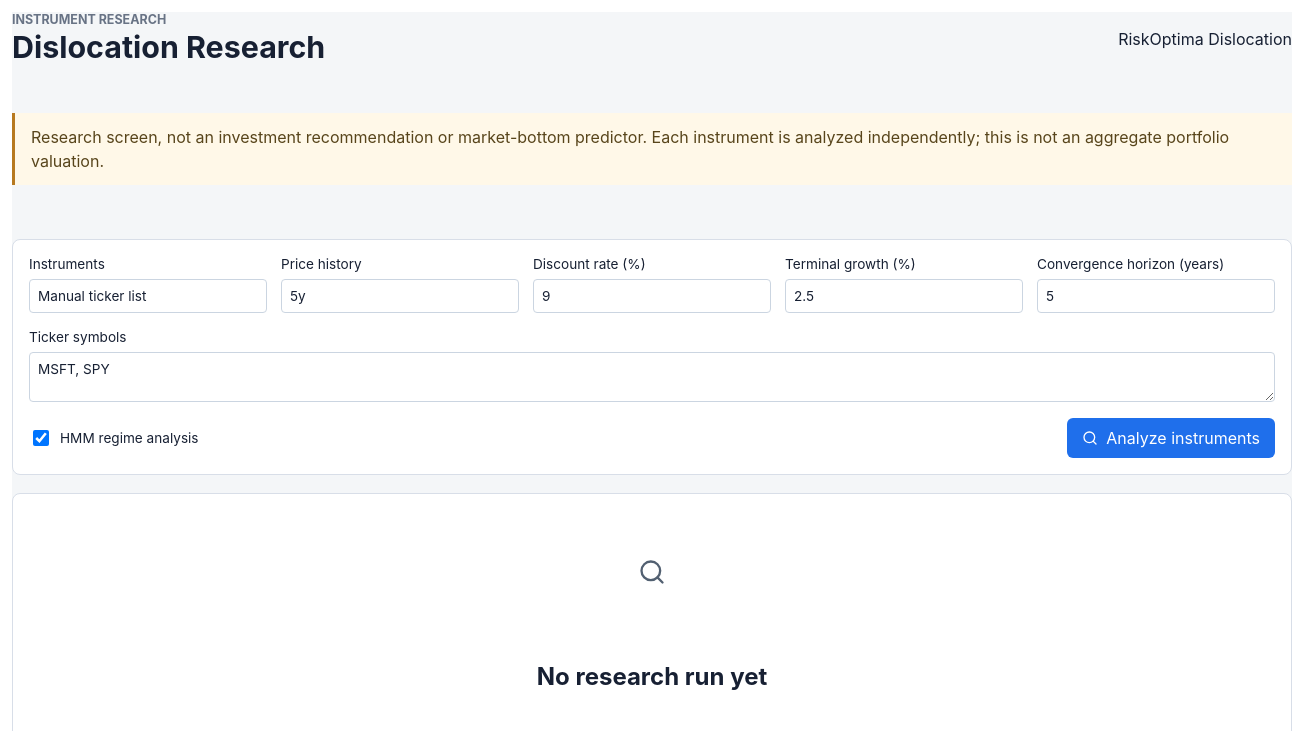
Dislocation Research › sends only selected portfolio holdings with portfolio id
The image size is (1304, 731).
Select "Selected portfolio holdings" in the dropdown labelled "Instruments" at (148, 296), box [29, 279, 267, 313]
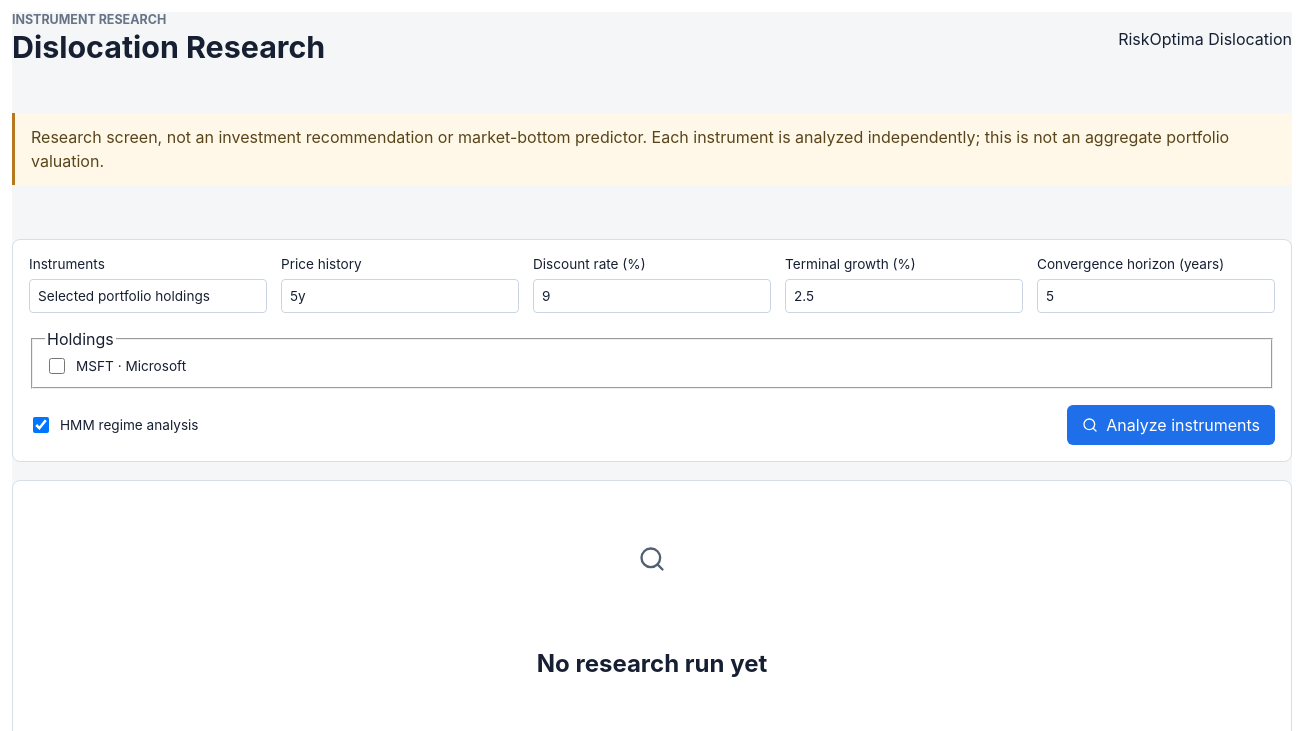
Click the checkbox labelled "MSFT · Microsoft" at (57, 366), box [49, 358, 65, 374]
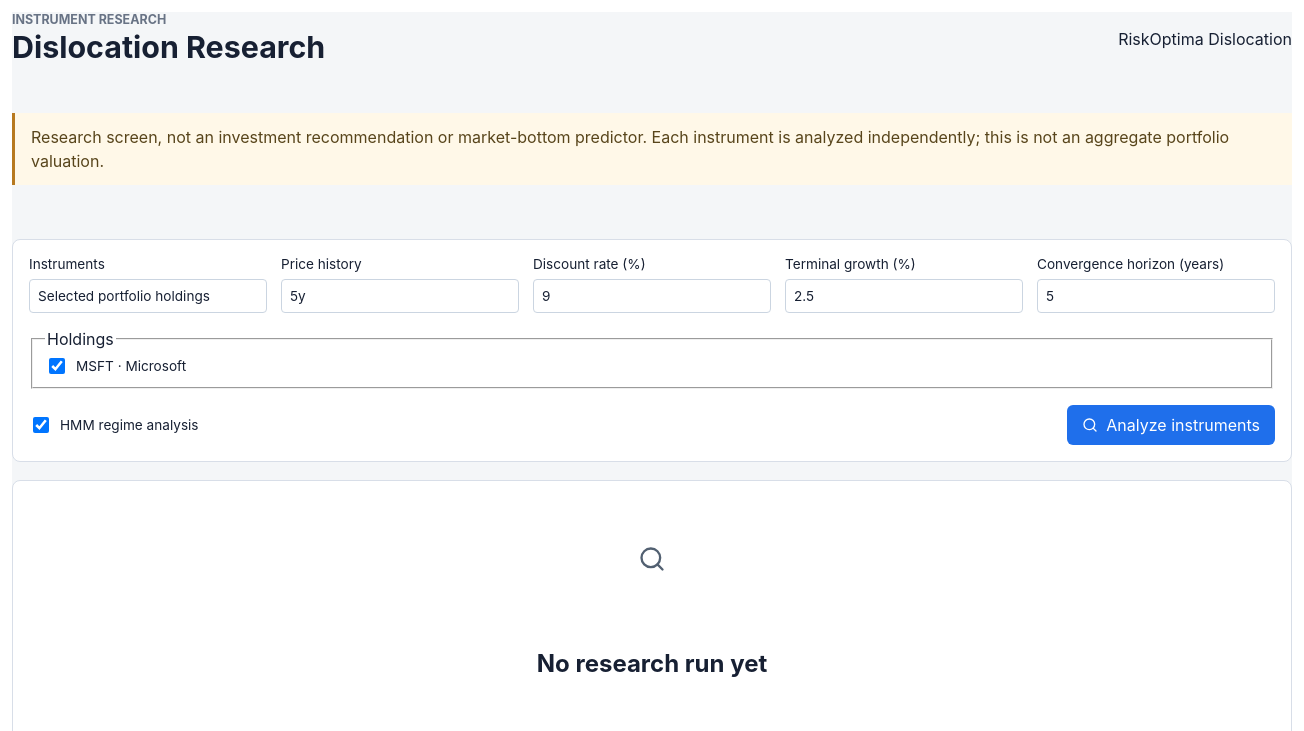
Click the button "Analyze instruments" at (1171, 425), box [1067, 405, 1275, 445]
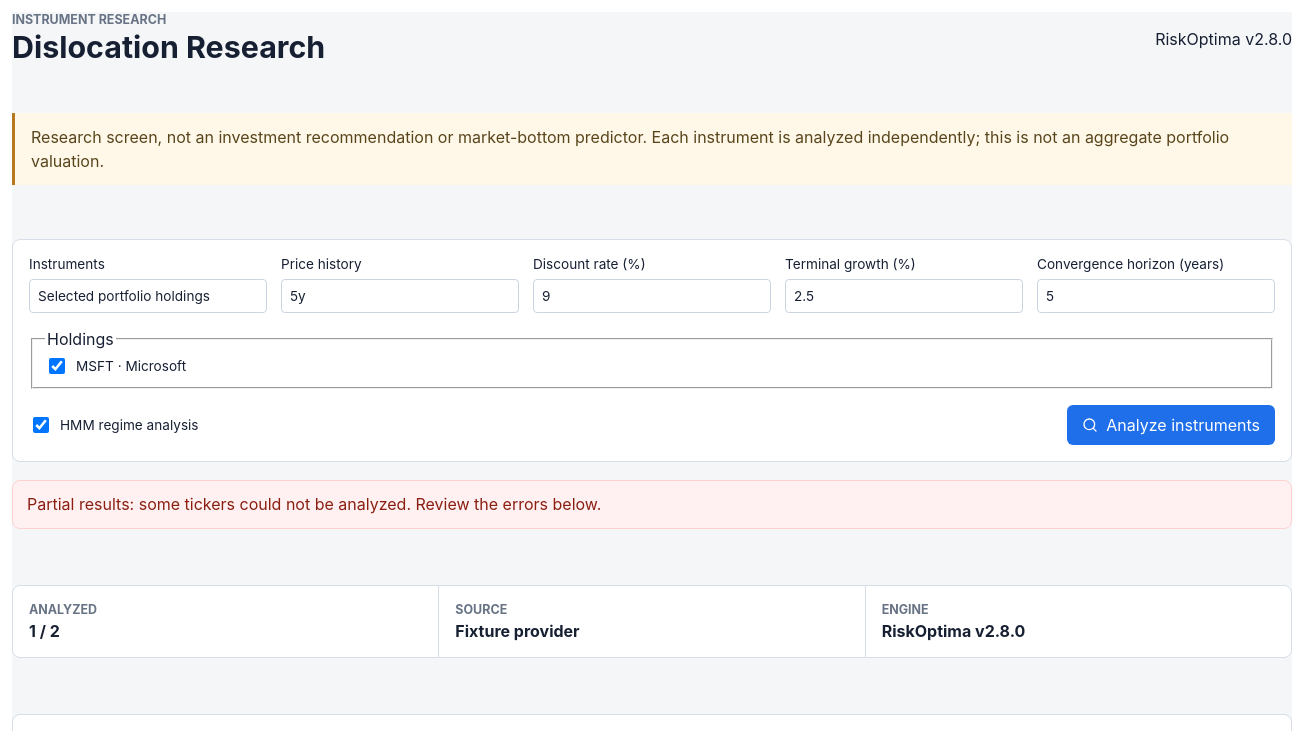
Expected: the text "Partial results: some tickers could not be analyzed. Review the errors below." is shown, [12, 480, 1292, 529]
